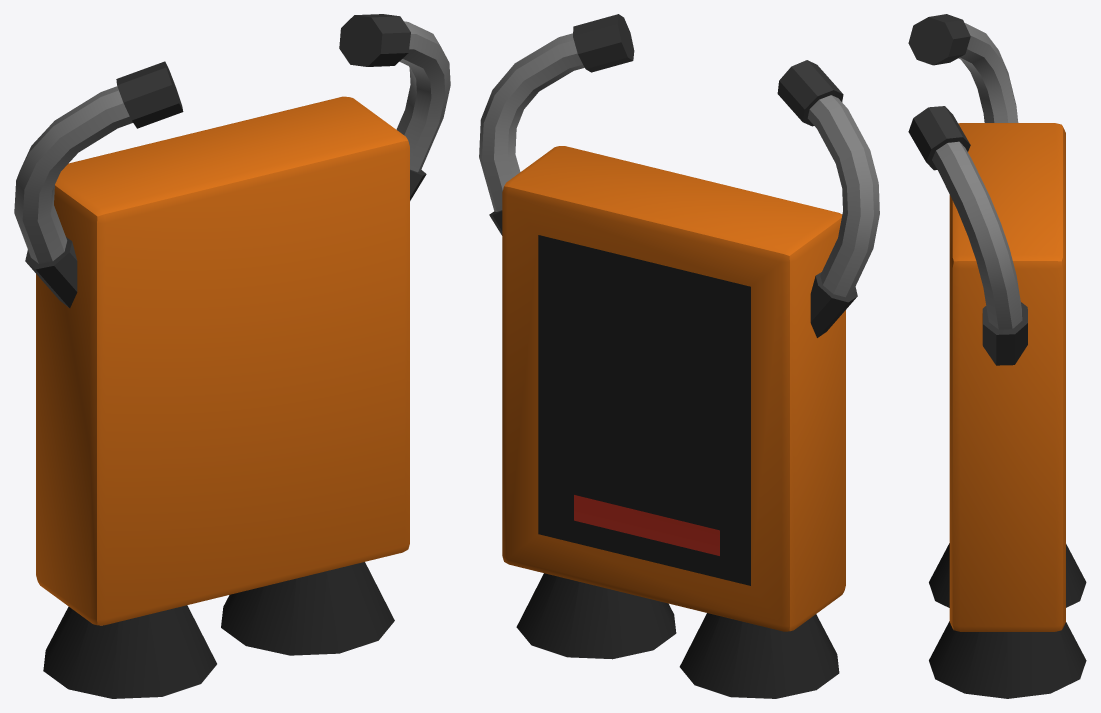
Rendered from M_Bag_v2.fbx.
The picture shows the model from 3 angles, left to right: view 1: azimuth 30°, elevation 25°; view 2: azimuth 150°, elevation 25°; view 3: azimuth 270°, elevation 25°; orthographic projection. The views are drawn at different scales.
Visible parts, largest first — view 1: M_Bag_2; view 2: M_Bag_2; view 3: M_Bag_2.
Part boxes in pixels (x1,y1,x2,y2): M_Bag_2: [14, 14, 450, 698]; M_Bag_2: [479, 14, 879, 698]; M_Bag_2: [908, 14, 1086, 698].
Bounding box in the file's own units: 79.56 × 112 × 31.76.
Materials: 1 (1 with a texture image).
